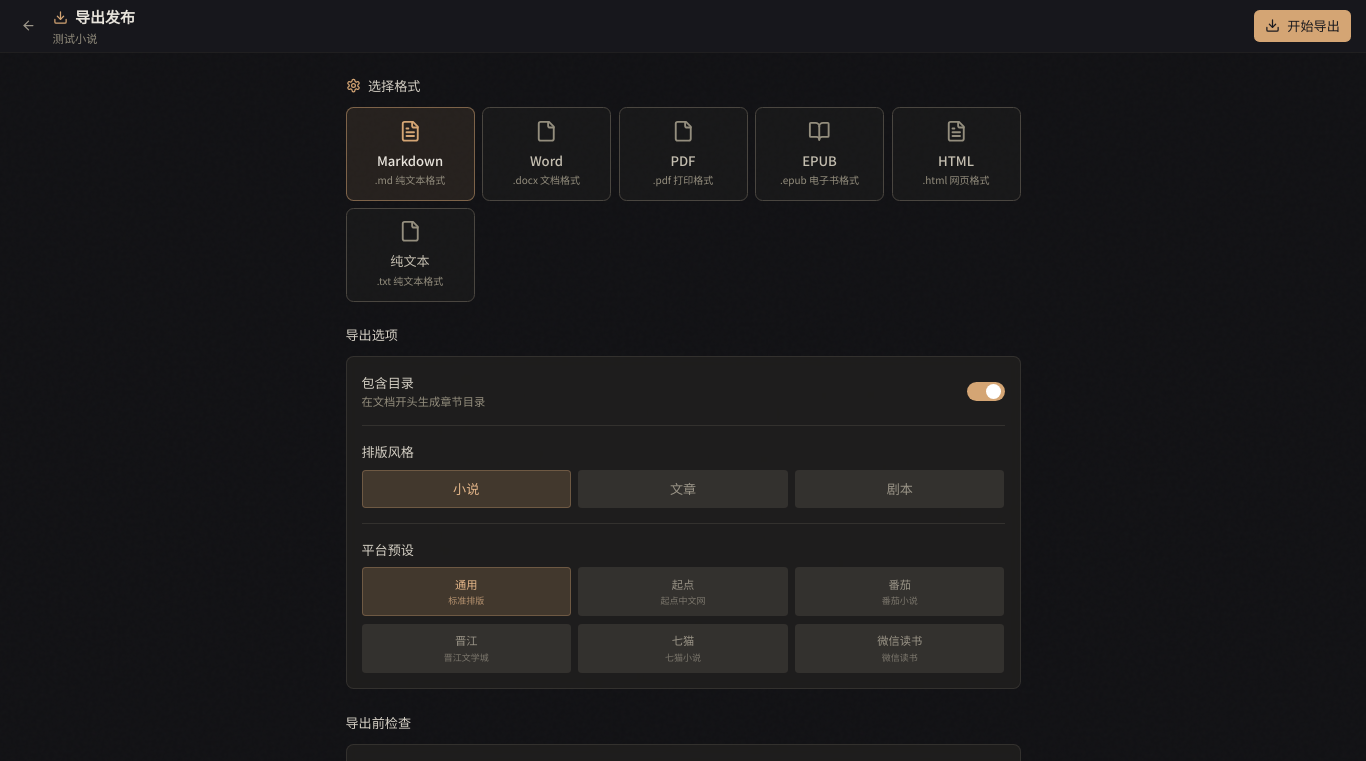
Scenario: ExportPage › 默认选中 markdown 格式，点击 PDF 后切换为 PDF 并显示联网字体提示
Check: the heading "导出发布" is shown, box [52,4,135,30]
Check: the text "PDF 导出需联网加载中文字体" is not shown
Click the text "PDF": coordinates (683, 160) [670,150,696,170]
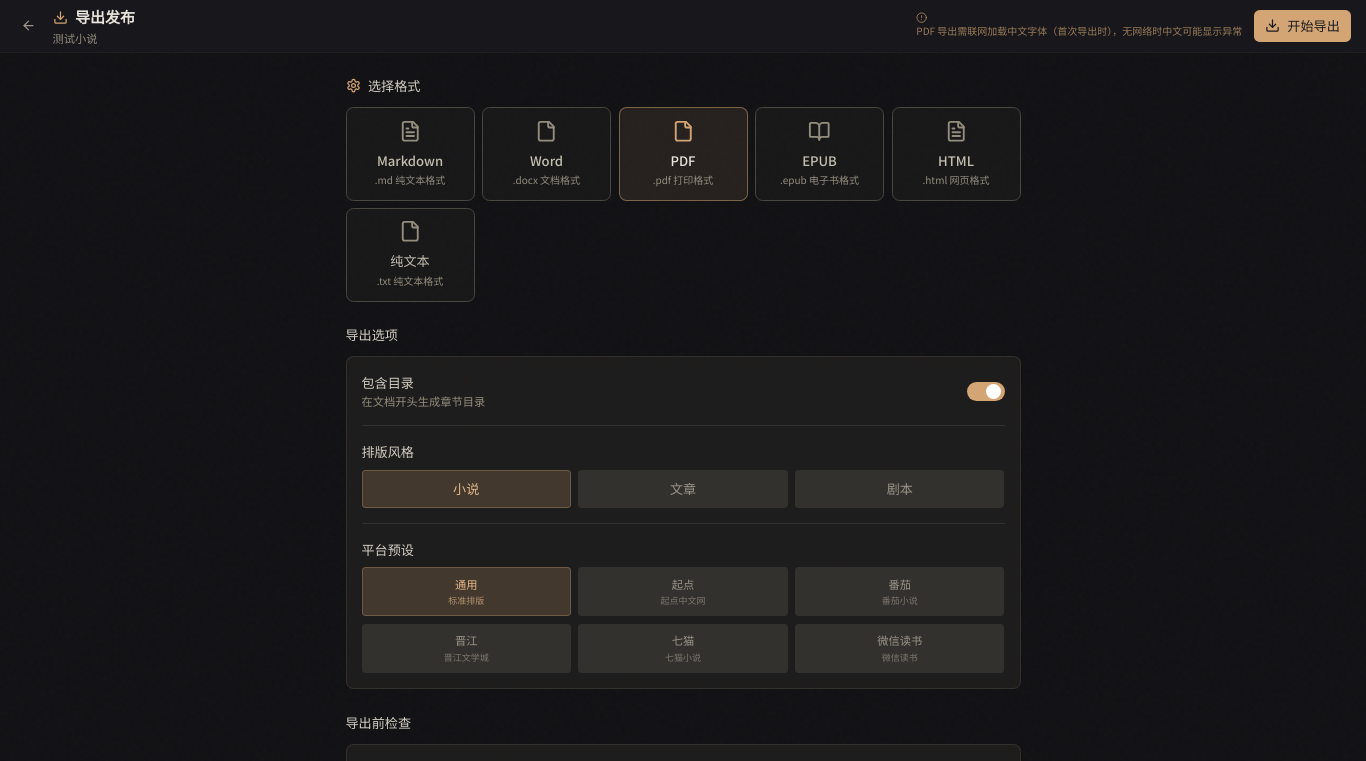
Check: the text "PDF 导出需联网加载中文字体（首次导出时），无网络时中文可能显示异常" is shown, box [916,12,1242,39]
